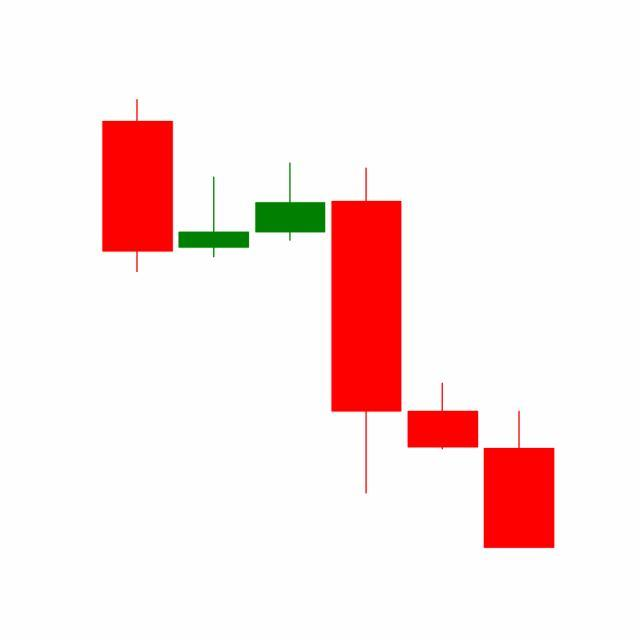Three Outside Up-Down: (252, 160, 482, 499)
